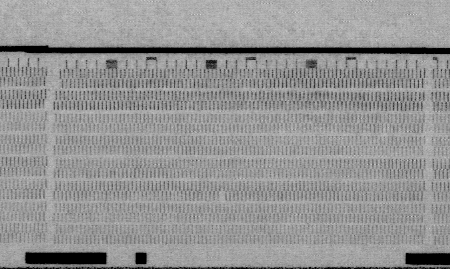Broken hole: (51, 69, 64, 88), (216, 190, 229, 203)
